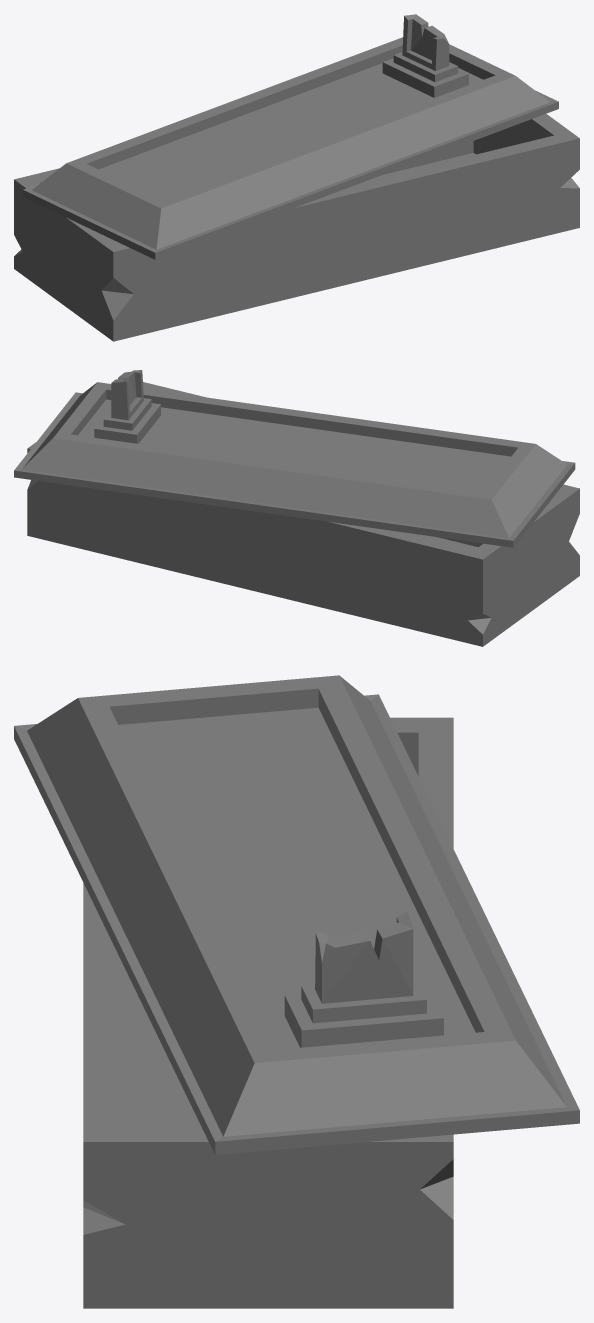
File: stone_tomb3.fbx
3 views of the same model, one above another, from view 1: azimuth 30°, elevation 25°; view 2: azimuth 150°, elevation 25°; view 3: azimuth 270°, elevation 25° (orthographic). The views are drawn at different scales.
Parts seen in each view (by area): view 1: stone_tomb3; view 2: stone_tomb3; view 3: stone_tomb3.
Part boxes in pixels (box(x1,y1,x2,y2)): stone_tomb3: box(14, 14, 579, 341); stone_tomb3: box(14, 370, 579, 646); stone_tomb3: box(14, 675, 579, 1308).
Size of the model in its own units: 349 by 115 by 187.
